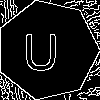U: (22, 25, 59, 71)
